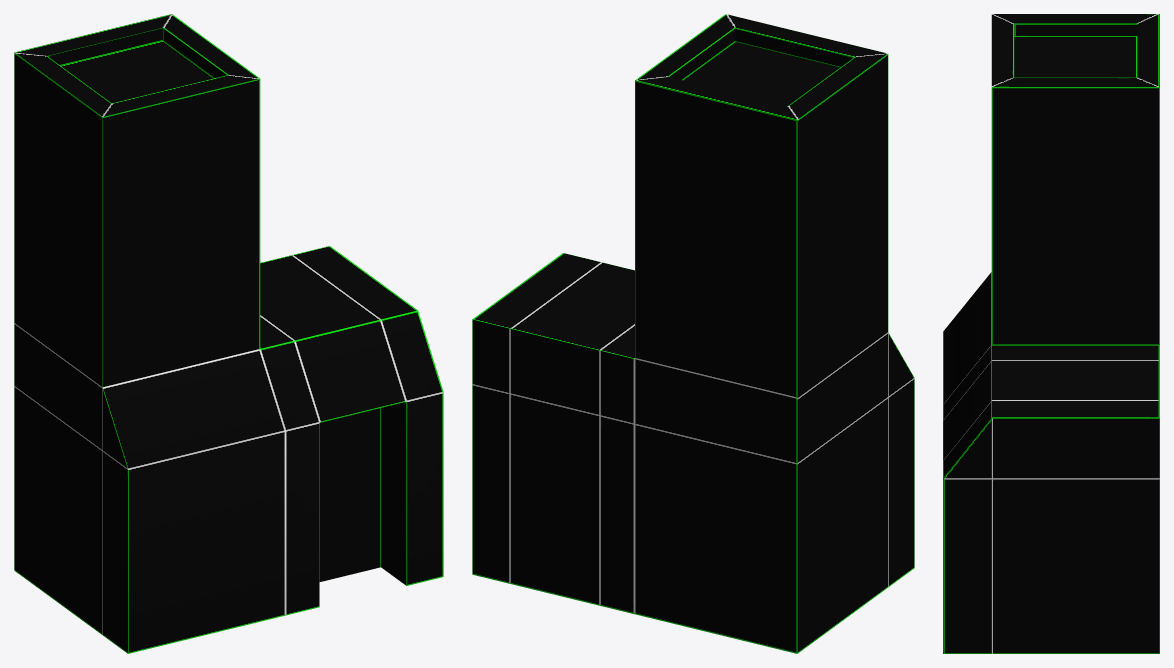
The model's file is Tower.fbx.
3 views of the same model, side by side, from view 1: azimuth 30°, elevation 25°; view 2: azimuth 150°, elevation 25°; view 3: azimuth 270°, elevation 25° (orthographic). The views are drawn at different scales.
Parts seen in each view (by area): view 1: Tower; view 2: Tower; view 3: Tower.
Part boxes in pixels (x1,y1,x2,y2): Tower: (14,14,443,653); Tower: (472,14,914,653); Tower: (943,14,1159,653).
Size of what is drawn, in the model's own units: 2 by 3.14 by 1.25.
1 material, 1 textured.
